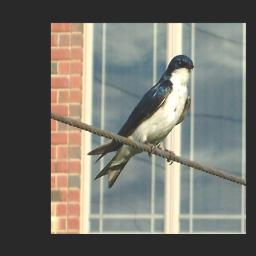Swallow: (86, 53, 195, 190)
